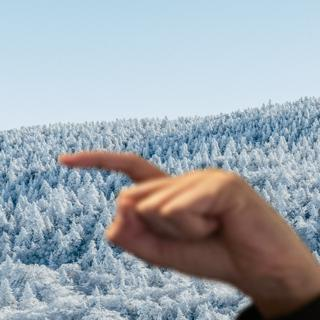WHY: (50, 139, 320, 306)
